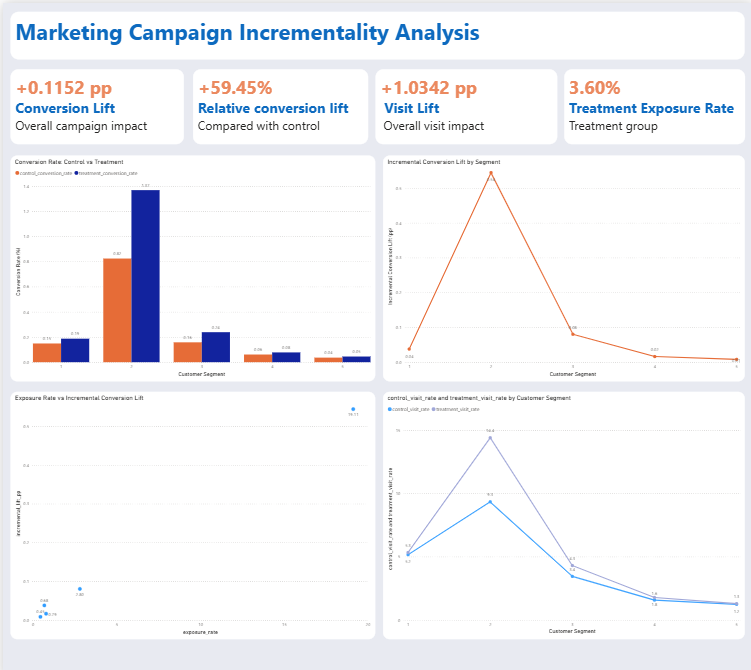

The dashboard page shown, as its layout file describes it:
{"tool":"powerbi","page":{"name":"Page 1","canvas":[2000,1800],"ordinal":0},"visuals":[{"type":"clusteredColumnChart","title":"Conversion Rate: Control vs Treatment","fields":{"Category":["marketing_incrementality_summary.segment"],"Y":["Sum(marketing_incrementality_summary.control_conversion_rate)","Sum(marketing_incrementality_summary.treatment_conversion_rate)"]},"box":[20,405,972.5,602.5],"z":0},{"type":"lineChart","title":"Incremental Conversion Lift by Segment","fields":{"Category":["marketing_incrementality_summary.segment"],"Y":["Sum(marketing_incrementality_summary.incremental_lift_pp)"]},"box":[1012.5,405,965,602.5],"z":1000},{"type":"lineChart","fields":{"Category":["marketing_incrementality_summary.segment"],"Y":["Sum(marketing_incrementality_summary.control_visit_rate)","Sum(marketing_incrementality_summary.treatment_visit_rate)"]},"box":[1012.5,1035,965,660],"z":2000},{"type":"scatterChart","title":"Exposure Rate vs Incremental Conversion Lift","fields":{"Y":["Sum(marketing_incrementality_summary.incremental_lift_pp)"],"X":["marketing_incrementality_summary.exposure_rate"]},"box":[20,1035,972.5,660],"z":3000},{"type":"textbox","box":[20,22.5,1957.5,127.5],"z":3002},{"type":"textbox","box":[20,175,462.5,200],"z":3003},{"type":"textbox","box":[507.5,175,467.5,200],"z":3004},{"type":"textbox","box":[992.5,175,485,200],"z":3005},{"type":"textbox","box":[1495,175,482.5,200],"z":3006}]}

Visuals, with their boxes in screenshot pixels (x1, y1, x2, y2), scaled from the page's 2000x1800 canvas onto the 751x670 screenshot:
"Conversion Rate: Control vs Treatment" clusteredColumnChart: locate(8, 151, 373, 375)
"Incremental Conversion Lift by Segment" lineChart: locate(380, 151, 743, 375)
lineChart - marketing_incrementality_summary.segment x Sum(marketing_incrementality_summary.control_visit_rate): locate(380, 385, 743, 631)
"Exposure Rate vs Incremental Conversion Lift" scatterChart: locate(8, 385, 373, 631)
textbox: locate(8, 8, 743, 56)
textbox: locate(8, 65, 181, 140)
textbox: locate(191, 65, 366, 140)
textbox: locate(373, 65, 555, 140)
textbox: locate(561, 65, 743, 140)
